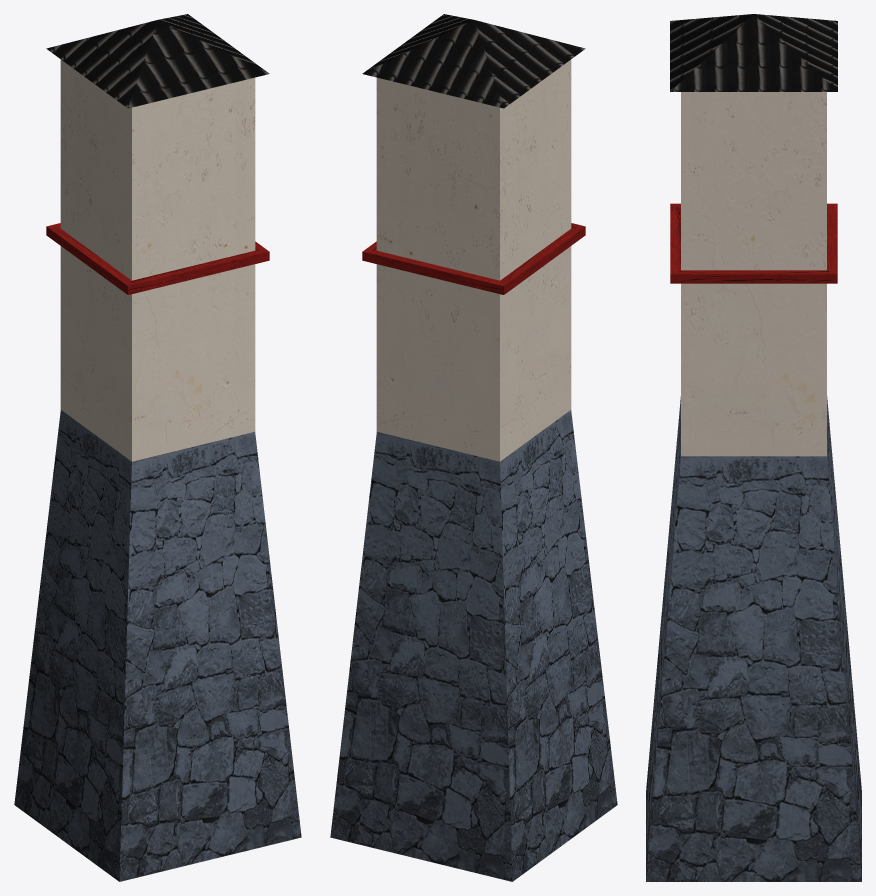
File: WallMiddlePost.fbx
3 views of the same model, side by side, from view 1: azimuth 30°, elevation 25°; view 2: azimuth 150°, elevation 25°; view 3: azimuth 270°, elevation 25° (orthographic). The views are drawn at different scales.
Parts seen in each view (by area): view 1: Cube_015, Cube_016, Cube_018, Cube_020; view 2: Cube_015, Cube_016, Cube_018, Cube_020; view 3: Cube_015, Cube_016, Cube_018, Cube_020.
Part boxes in pixels (x1,y1,x2,y2): Cube_015: (14,410,301,881); Cube_016: (60,59,255,461); Cube_018: (46,14,269,108); Cube_020: (46,223,269,294); Cube_015: (330,410,617,881); Cube_016: (376,59,571,461); Cube_018: (362,14,585,108); Cube_020: (362,223,585,294); Cube_015: (646,396,861,881); Cube_016: (681,92,826,456); Cube_018: (670,14,837,91); Cube_020: (670,203,837,283).
Bounding box in the file's own units: 135 × 568 × 135.
